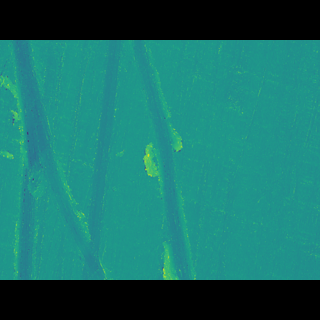Loch: (8, 68, 109, 250), (124, 68, 199, 251)
